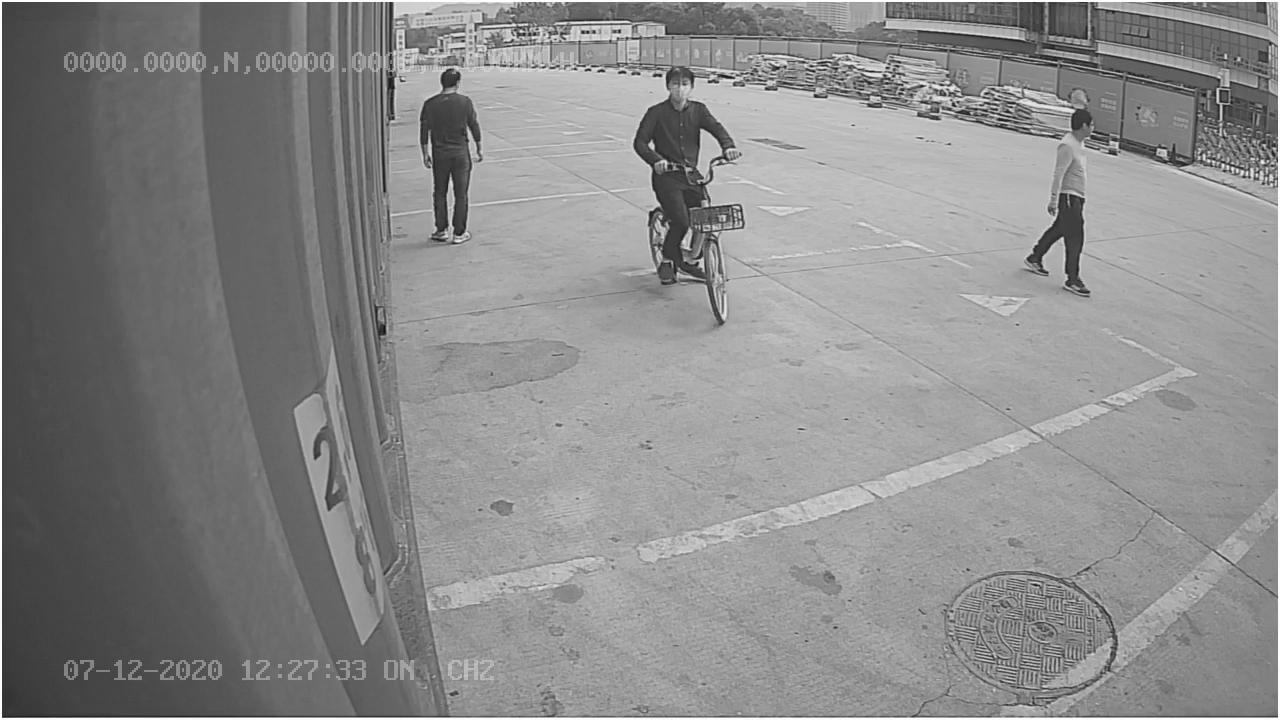person: (414, 64, 488, 251)
